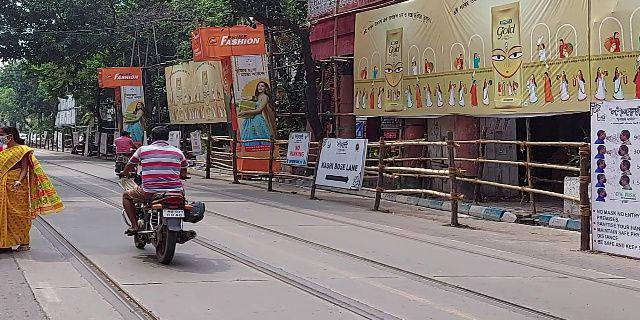Motorbike: (116, 124, 210, 264)
